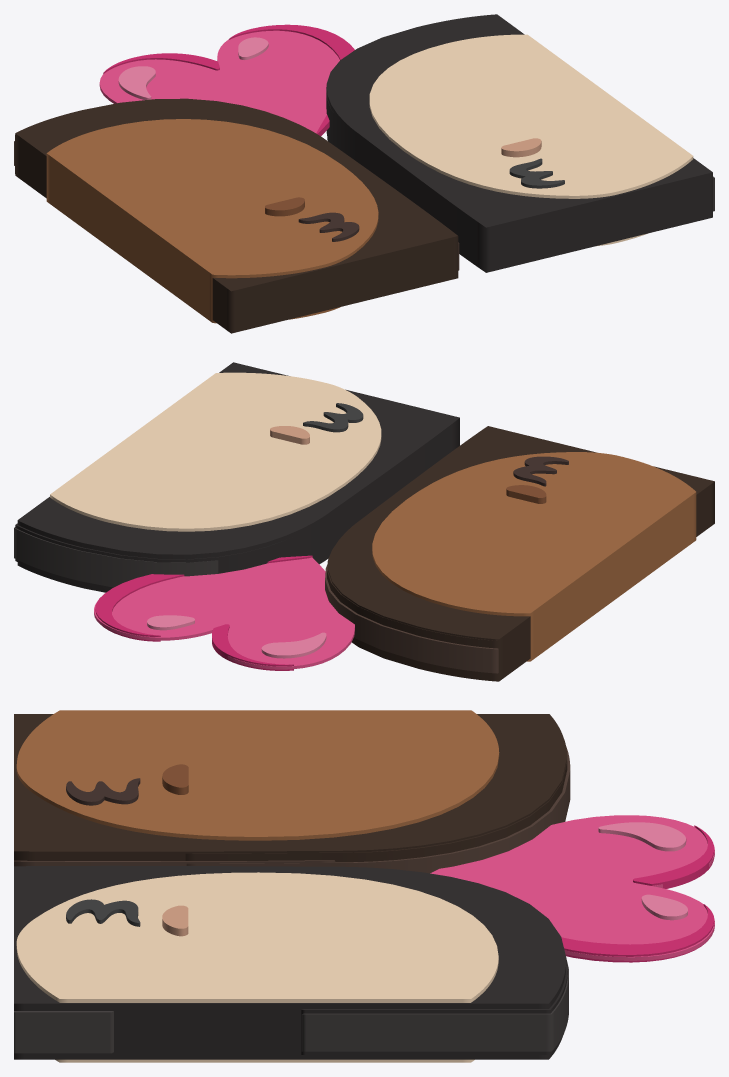
File: emoji_u1f469_1f3fe_200d_2764_200d_1f48b_200d_1f469_1f3fb.glb
The picture shows the model from 3 angles, top to bottom: view 1: azimuth 30°, elevation 25°; view 2: azimuth 150°, elevation 25°; view 3: azimuth 270°, elevation 25°; orthographic projection. The views are drawn at different scales.
Visible parts, largest first — view 1: emoji_u1f469_1f3fe_200d_2764_200d_1f48b_200d_1f469_1f3fb; view 2: emoji_u1f469_1f3fe_200d_2764_200d_1f48b_200d_1f469_1f3fb; view 3: emoji_u1f469_1f3fe_200d_2764_200d_1f48b_200d_1f469_1f3fb.
Boxes of the visible parts, x1,y1,x2,y2 form: emoji_u1f469_1f3fe_200d_2764_200d_1f48b_200d_1f469_1f3fb: (14,14,714,333); emoji_u1f469_1f3fe_200d_2764_200d_1f48b_200d_1f469_1f3fb: (14,362,714,681); emoji_u1f469_1f3fe_200d_2764_200d_1f48b_200d_1f469_1f3fb: (14,710,714,1062).
Bounding box in the file's own units: 0.0336 × 0.0042 × 0.0339.
